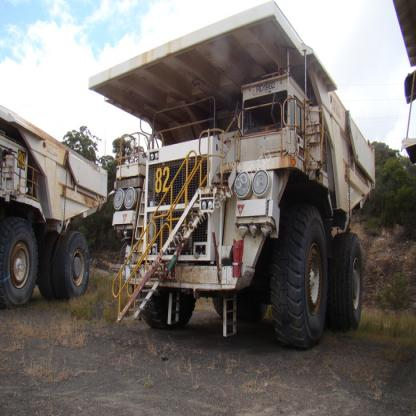dump_truck: (80, 0, 374, 353), (0, 99, 109, 313)
